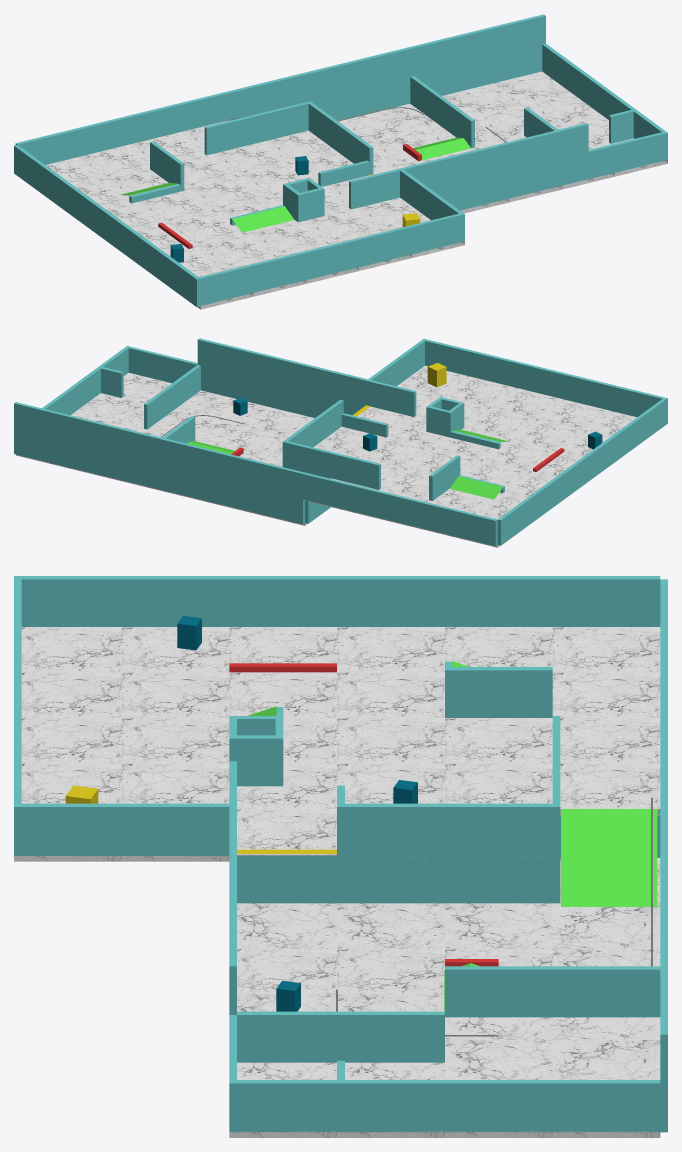
File: Level.fbx
3 renders of one model, top to bottom at view 1: azimuth 30°, elevation 25°; view 2: azimuth 150°, elevation 25°; view 3: azimuth 270°, elevation 25°, orthographic. The views are drawn at different scales.
Parts seen in each view (by area): view 1: Wall_big_24, Wall_big_49, Wall_big_52, Wall_big_51, Wall_big_8, Floor_3_7, Floor_3_23, Floor_3_25, Floor_3_11, Floor_3_24, Wall_big_26, Wall_big_16 (+74 smaller); view 2: Wall_big_54, Wall_big_31, Wall_big_48, Wall_big_46, Wall_big_47, Wall_big_50, Wall_big_16, Wall_big_49, Wall_big_53, Wall_big_17, Wall_big_20, Wall_big_51 (+76 smaller); view 3: Plane__3_, Wall_big_28, Wall_big_5, Wall_big_21, Wall_big_22, Wall_big_4, Wall_big_7, Wall_big_41, Wall_big_27, Wall_big_6, Wall_big_38, Wall_big_39 (+62 smaller).
Boxes of the visible parts, left/top/right/bottom form: Wall_big_24: left=204, top=114, right=259, bottom=155; Wall_big_49: left=333, top=53, right=387, bottom=94; Wall_big_52: left=438, top=27, right=493, bottom=69; Wall_big_51: left=386, top=40, right=440, bottom=81; Wall_big_8: left=304, top=238, right=359, bottom=280; Floor_3_7: left=207, top=142, right=289, bottom=177; Floor_3_23: left=193, top=235, right=275, bottom=270; Floor_3_25: left=246, top=222, right=328, bottom=257; Floor_3_11: left=185, top=178, right=266, bottom=212; Floor_3_24: left=298, top=209, right=381, bottom=244; Wall_big_26: left=199, top=264, right=253, bottom=306; Wall_big_16: left=534, top=123, right=588, bottom=164; Wall_big_54: left=447, top=508, right=497, bottom=546; Wall_big_31: left=366, top=379, right=416, bottom=416; Wall_big_48: left=399, top=496, right=448, bottom=534; Wall_big_46: left=303, top=472, right=352, bottom=510; Wall_big_47: left=351, top=484, right=400, bottom=522; Wall_big_50: left=206, top=449, right=256, bottom=487; Wall_big_16: left=197, top=338, right=246, bottom=376; Wall_big_49: left=158, top=437, right=207, bottom=475; Wall_big_53: left=14, top=402, right=63, bottom=440; Wall_big_17: left=245, top=350, right=295, bottom=388; Wall_big_20: left=282, top=440, right=332, bottom=478; Wall_big_51: left=110, top=425, right=159, bottom=463; Plane__3_: left=561, top=809, right=657, bottom=906; Wall_big_28: left=121, top=803, right=229, bottom=855; Wall_big_5: left=498, top=1080, right=606, bottom=1132; Wall_big_21: left=337, top=803, right=444, bottom=855; Wall_big_22: left=445, top=803, right=552, bottom=855; Wall_big_4: left=391, top=1080, right=498, bottom=1132; Wall_big_7: left=552, top=966, right=660, bottom=1017; Wall_big_41: left=552, top=576, right=660, bottom=626; Wall_big_27: left=14, top=803, right=121, bottom=855; Wall_big_6: left=445, top=667, right=552, bottom=717; Wall_big_38: left=445, top=576, right=552, bottom=626; Wall_big_39: left=337, top=576, right=444, bottom=626.
Bounding box in the file's own units: 28200 × 3906 × 17000.
Materials: 9 (3 with a texture image).
